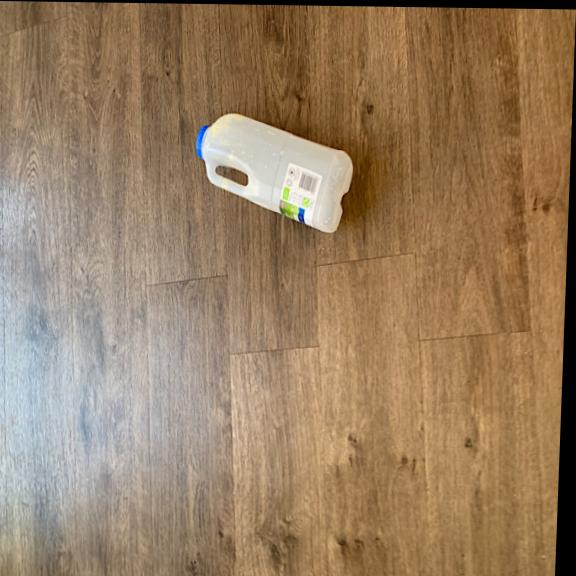Plastik: (191, 112, 361, 238)
